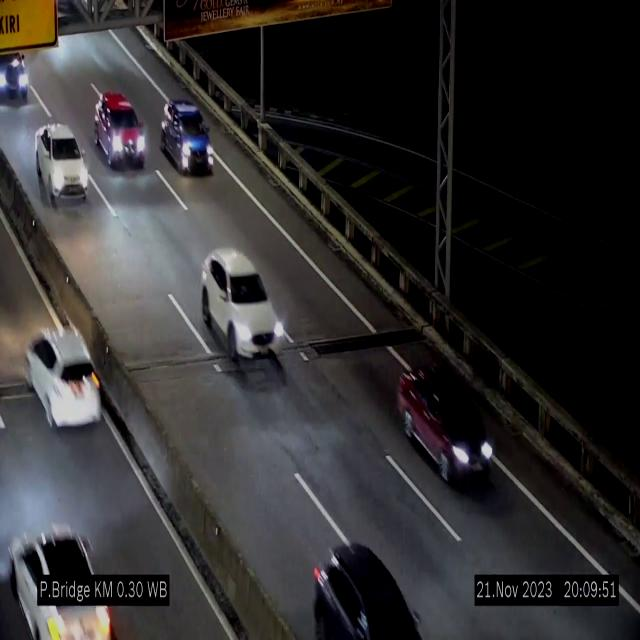Car: (4, 519, 130, 640), (399, 362, 492, 496), (24, 304, 108, 437), (314, 544, 422, 638), (201, 250, 277, 362), (36, 123, 88, 205), (160, 99, 213, 173), (94, 92, 146, 167), (0, 34, 43, 113)
